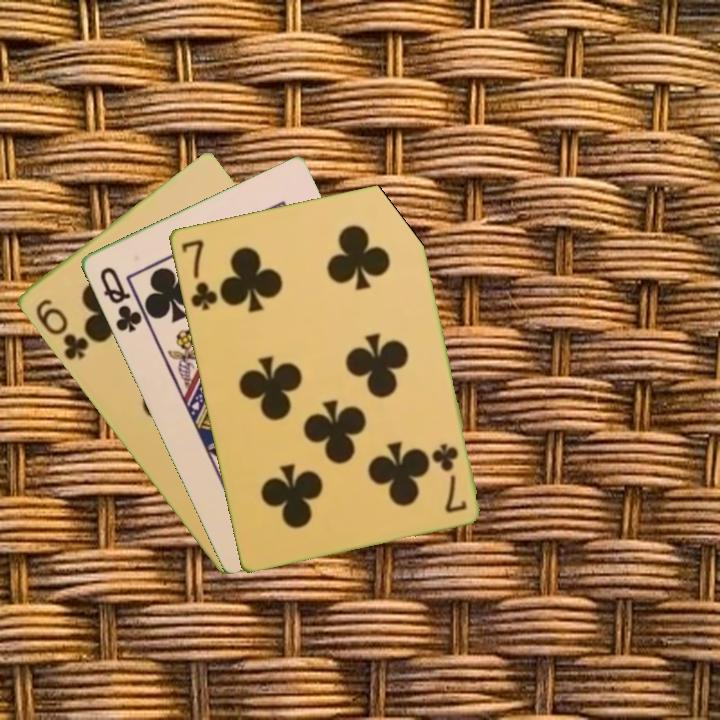6c: (31, 295, 91, 363)
7c: (177, 235, 220, 313), (429, 439, 470, 516)
Qc: (95, 263, 145, 336)
